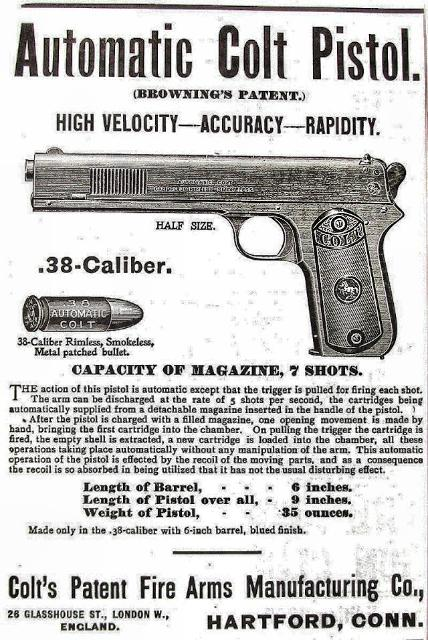pistol: (17, 138, 407, 366)
